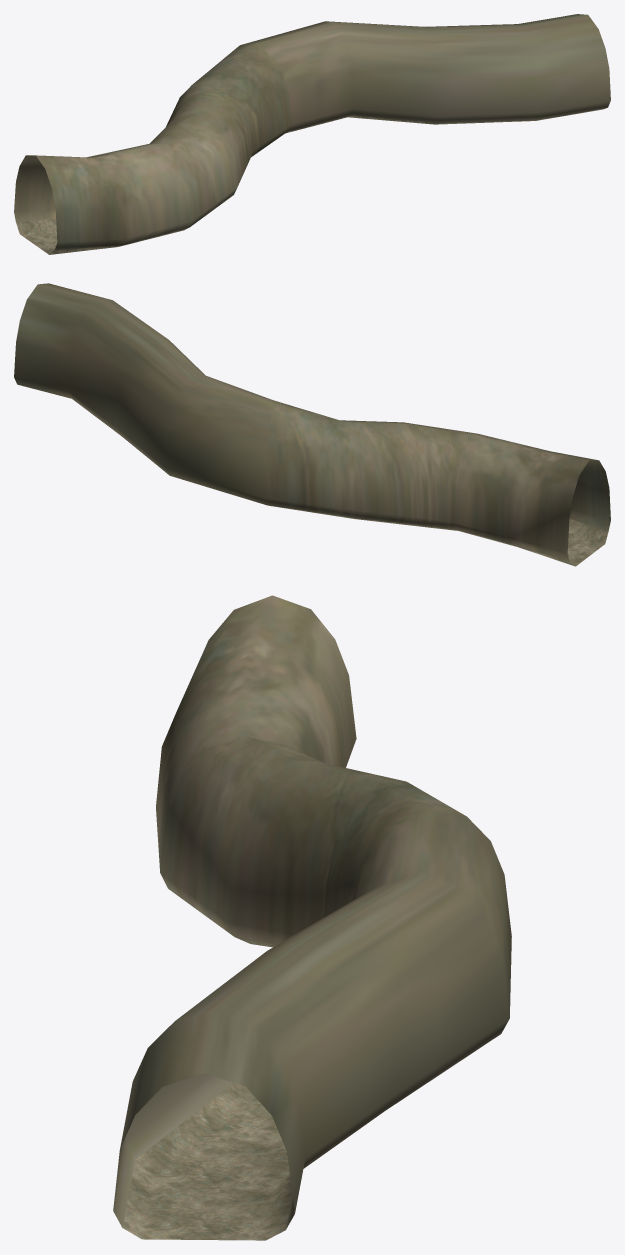
The model's file is OVERHILL_A_01_CM_TUNNEL_02.fbx.
3 renders of one model, top to bottom at view 1: azimuth 30°, elevation 25°; view 2: azimuth 150°, elevation 25°; view 3: azimuth 270°, elevation 25°, orthographic. The views are drawn at different scales.
Visible parts, largest first — view 1: OVERHILL_A_01_CM_TUNNEL_02; view 2: OVERHILL_A_01_CM_TUNNEL_02; view 3: OVERHILL_A_01_CM_TUNNEL_02.
Boxes of the visible parts, x1,y1,x2,y2 form: OVERHILL_A_01_CM_TUNNEL_02: (14,14,610,254); OVERHILL_A_01_CM_TUNNEL_02: (14,283,610,566); OVERHILL_A_01_CM_TUNNEL_02: (113,595,511,1240).
Size of the model in its own units: 208263 by 43135 by 66939.
1 material, 1 textured.
